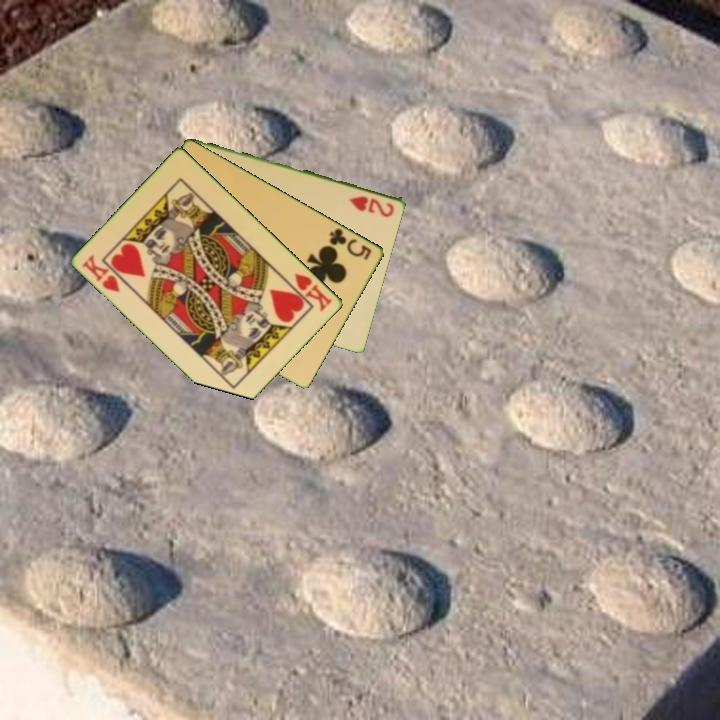2h: (346, 192, 397, 220)
5c: (326, 224, 375, 263)
Kh: (283, 269, 335, 314), (79, 251, 124, 296)
